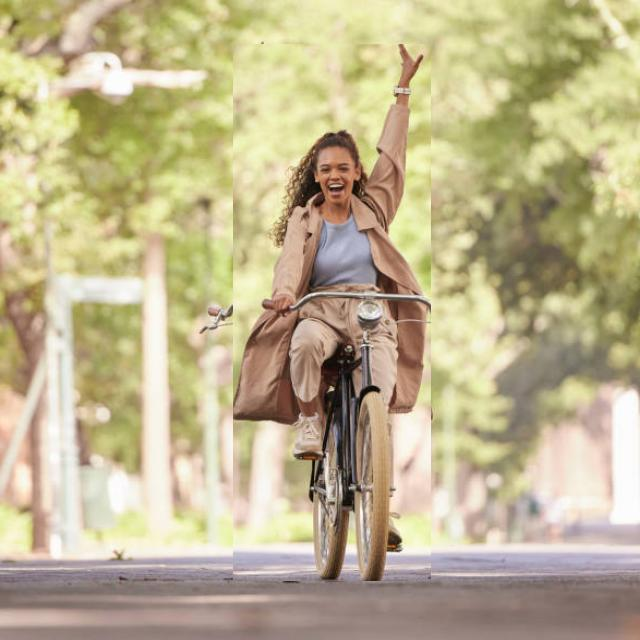bicycle: (233, 45, 430, 581)
